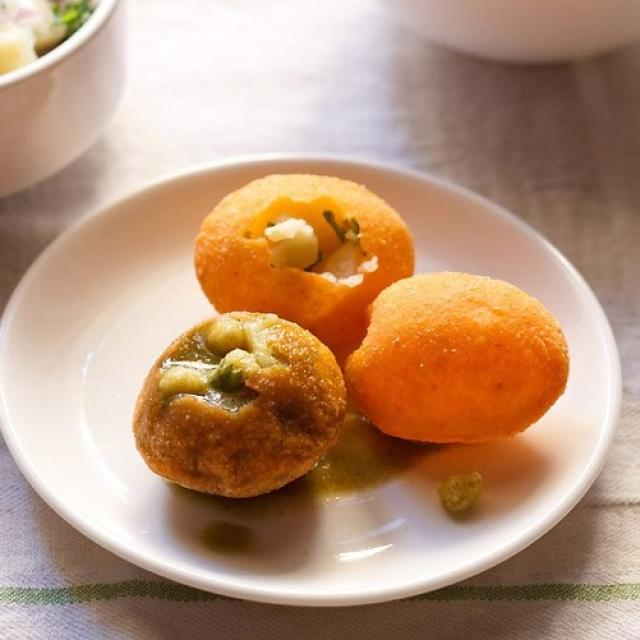paani_puri: (148, 158, 557, 515)
